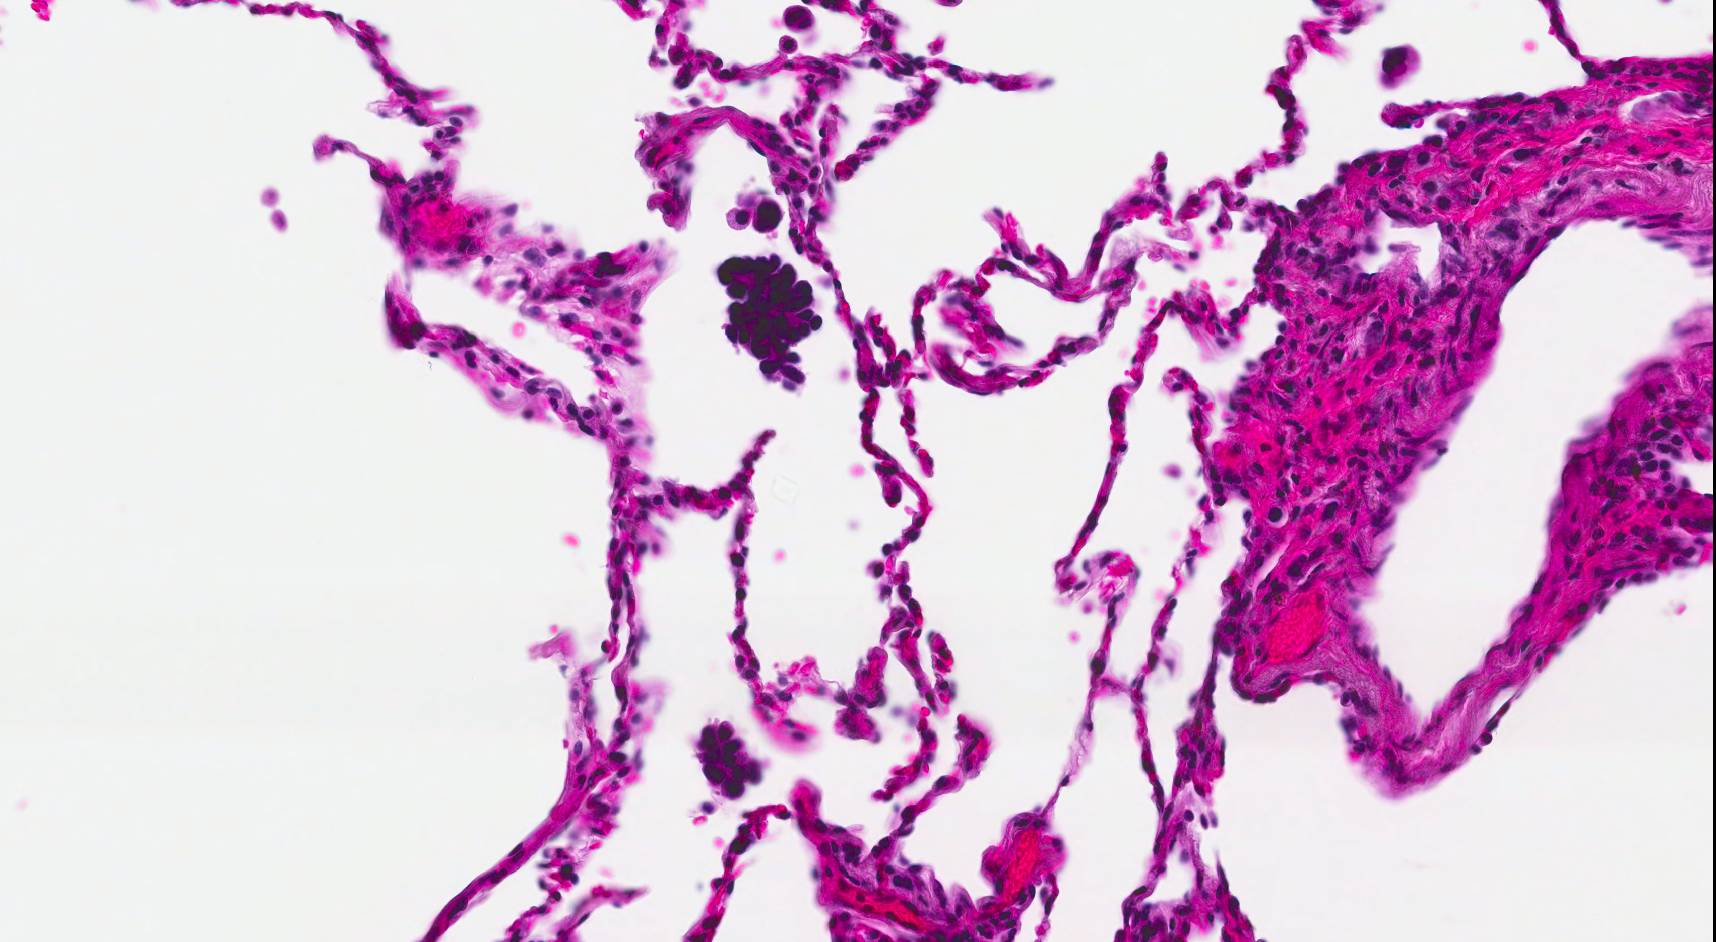stas: (716, 252, 829, 396), (693, 717, 766, 803)
